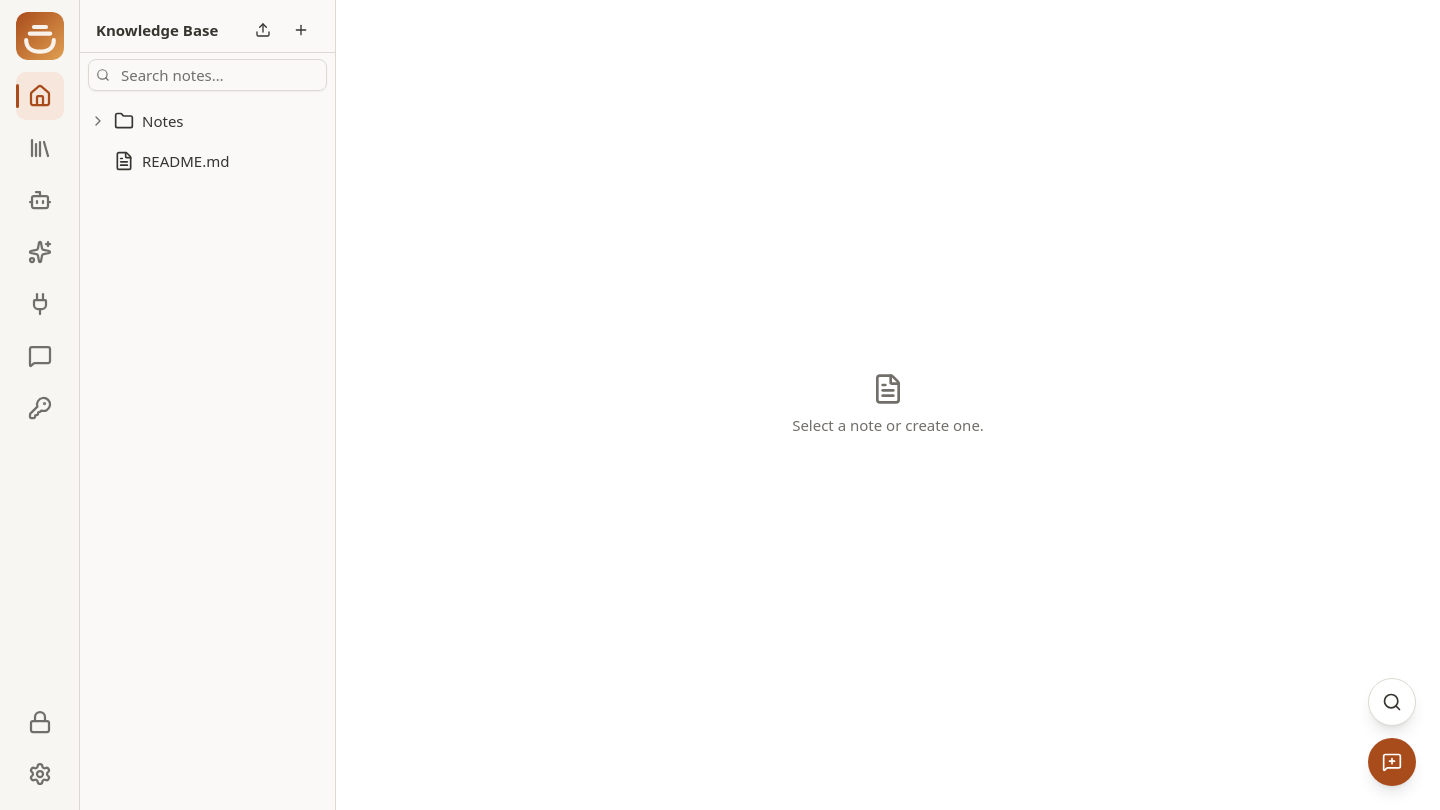
Test case: clicking a file in the tree records it under Recent
Click the button "README.md" at x=172, y=161, box [114,151,229,171]
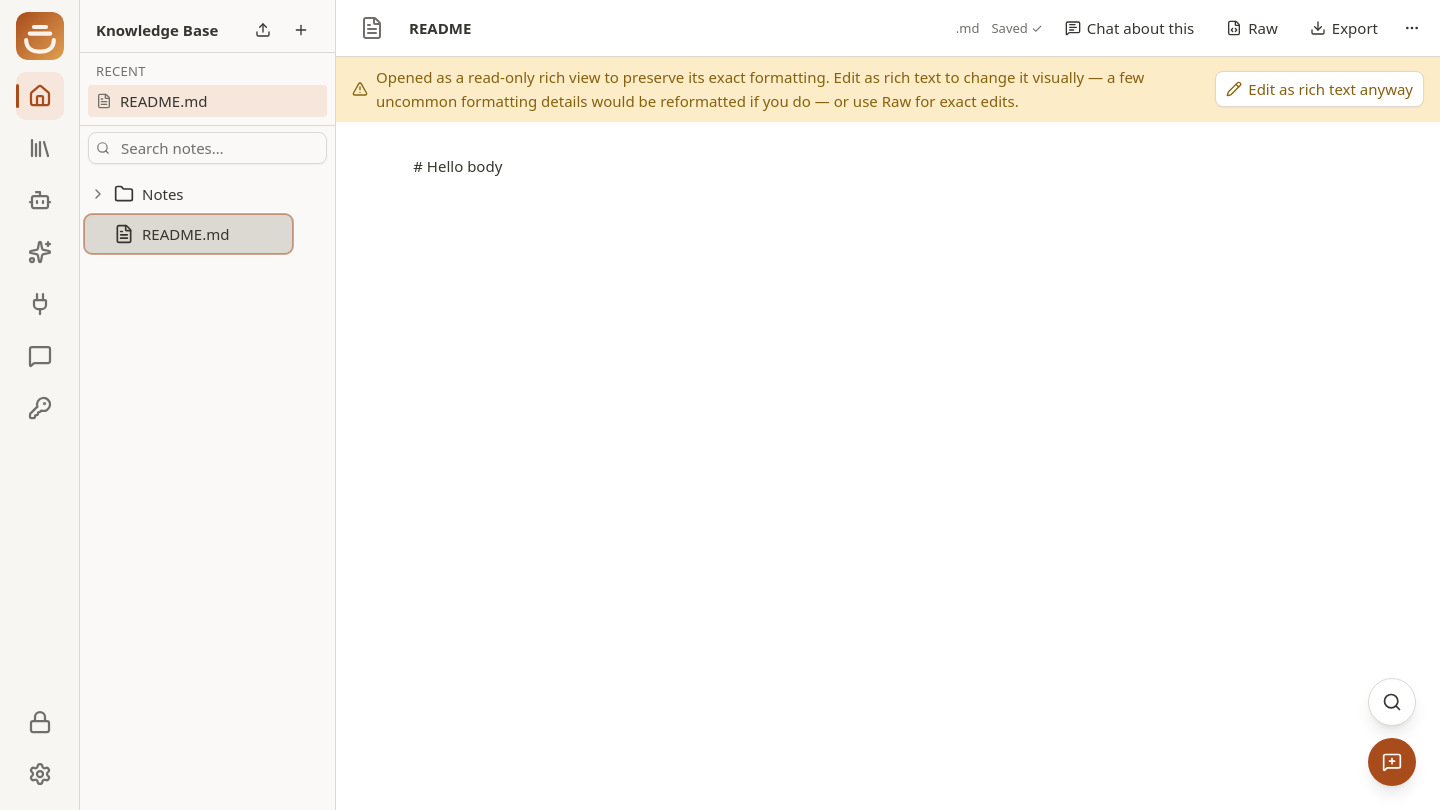
Check: the heading "Recent" is shown, box [96,62,146,80]
